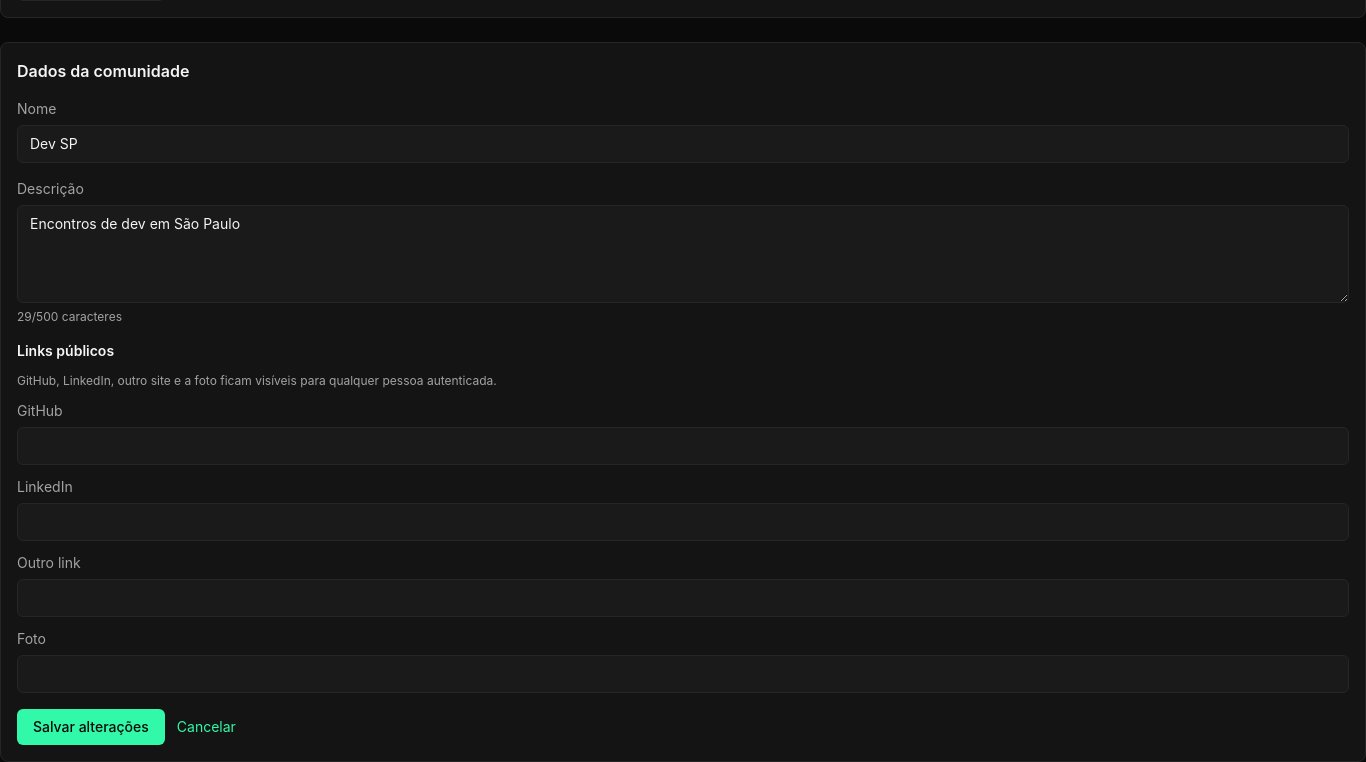
Test: EditCommunityPage › 400 com cause de campo mostra o erro no campo e permanece na página
(page scrolled)
Click the button "Salvar alterações" at [91, 727], box [17,709,165,745]
(page scrolled)
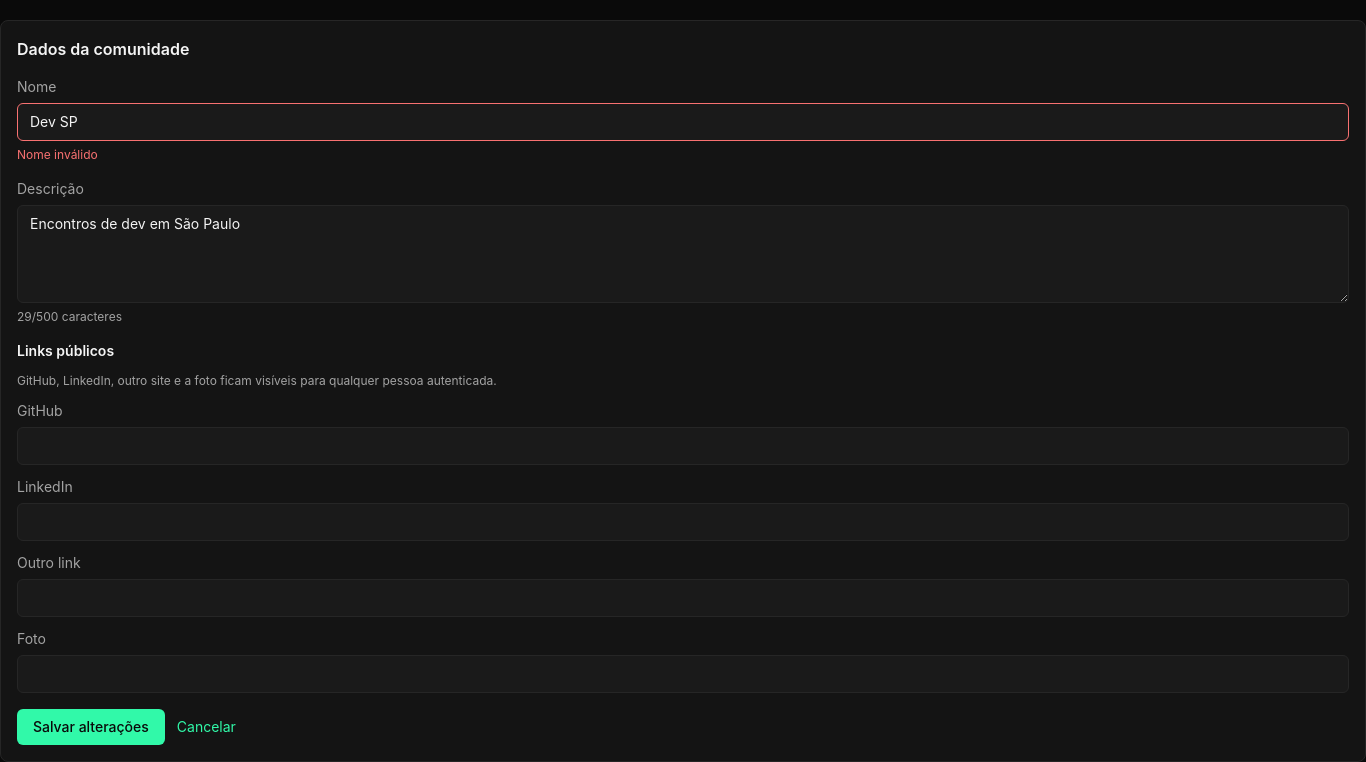
Now the text "Nome inválido" is shown, box [17,147,98,162]
